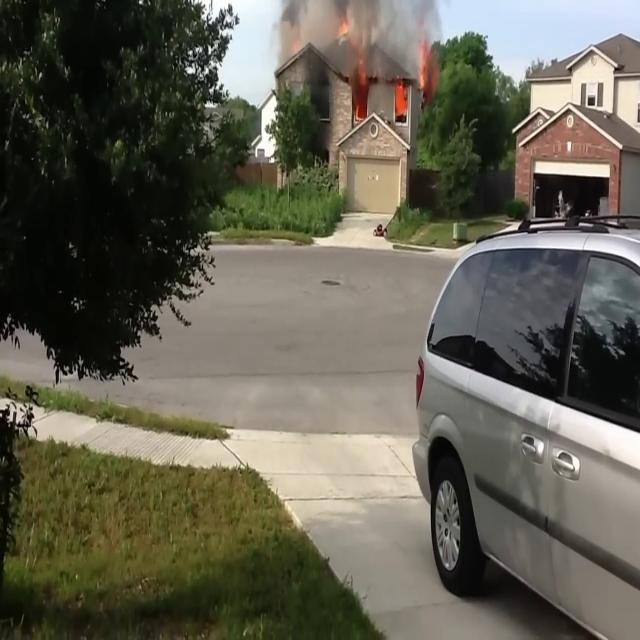Smoke: (276, 0, 431, 100)
